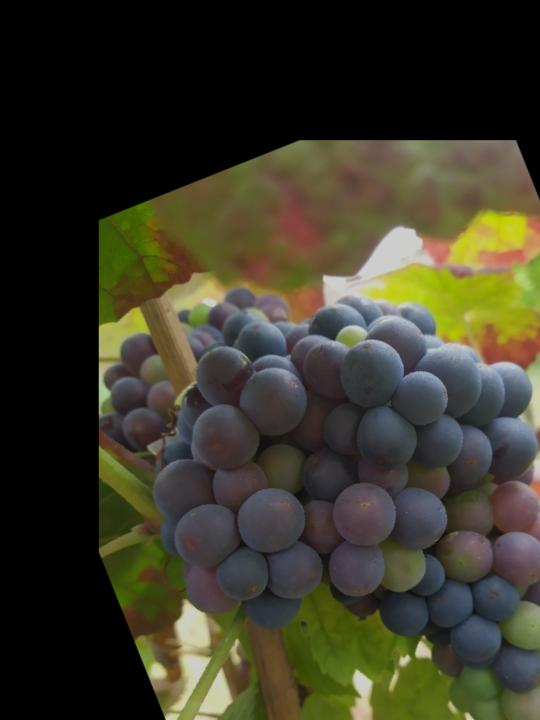grape: (93, 219, 540, 720)
